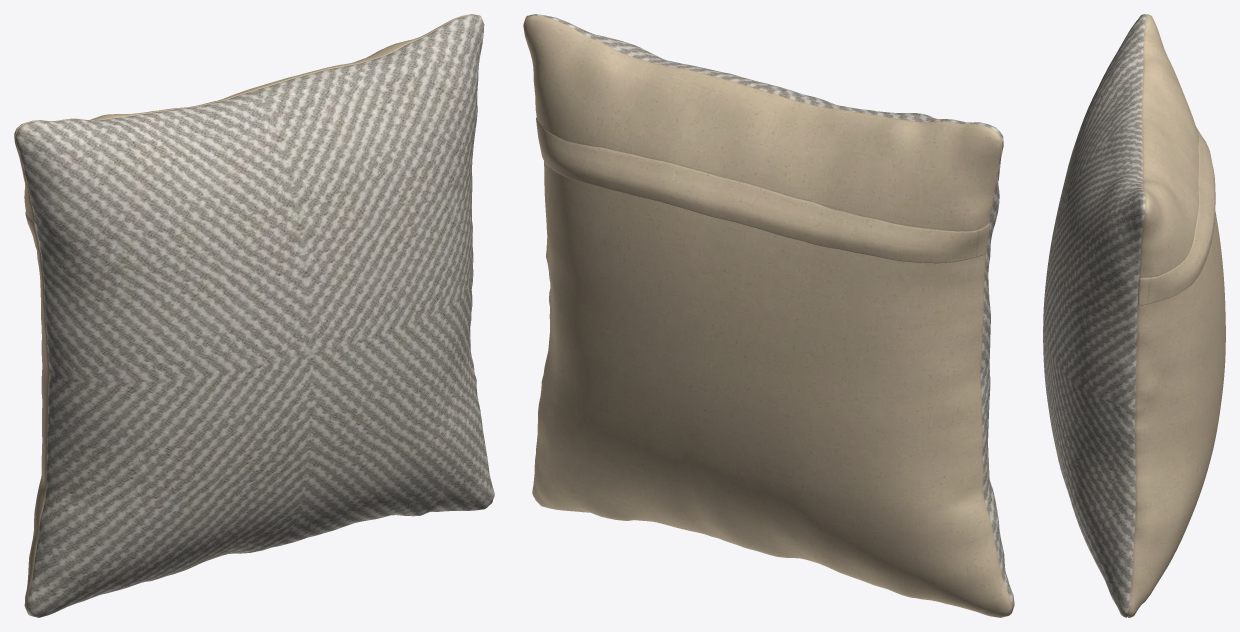
Rendered from B07JKJSTYT.glb.
3 views of the same model, side by side, from view 1: azimuth 30°, elevation 25°; view 2: azimuth 150°, elevation 25°; view 3: azimuth 270°, elevation 25° (orthographic). The views are drawn at different scales.
Visible parts, largest first — view 1: RootNode; view 2: RootNode; view 3: RootNode.
Part boxes in pixels (x1,y1,x2,y2): RootNode: (14,14,494,617); RootNode: (523,14,1014,617); RootNode: (1043,14,1225,617).
Size of the model in its own units: 0.4595 by 0.4576 by 0.1812.
1 material, 1 textured.
